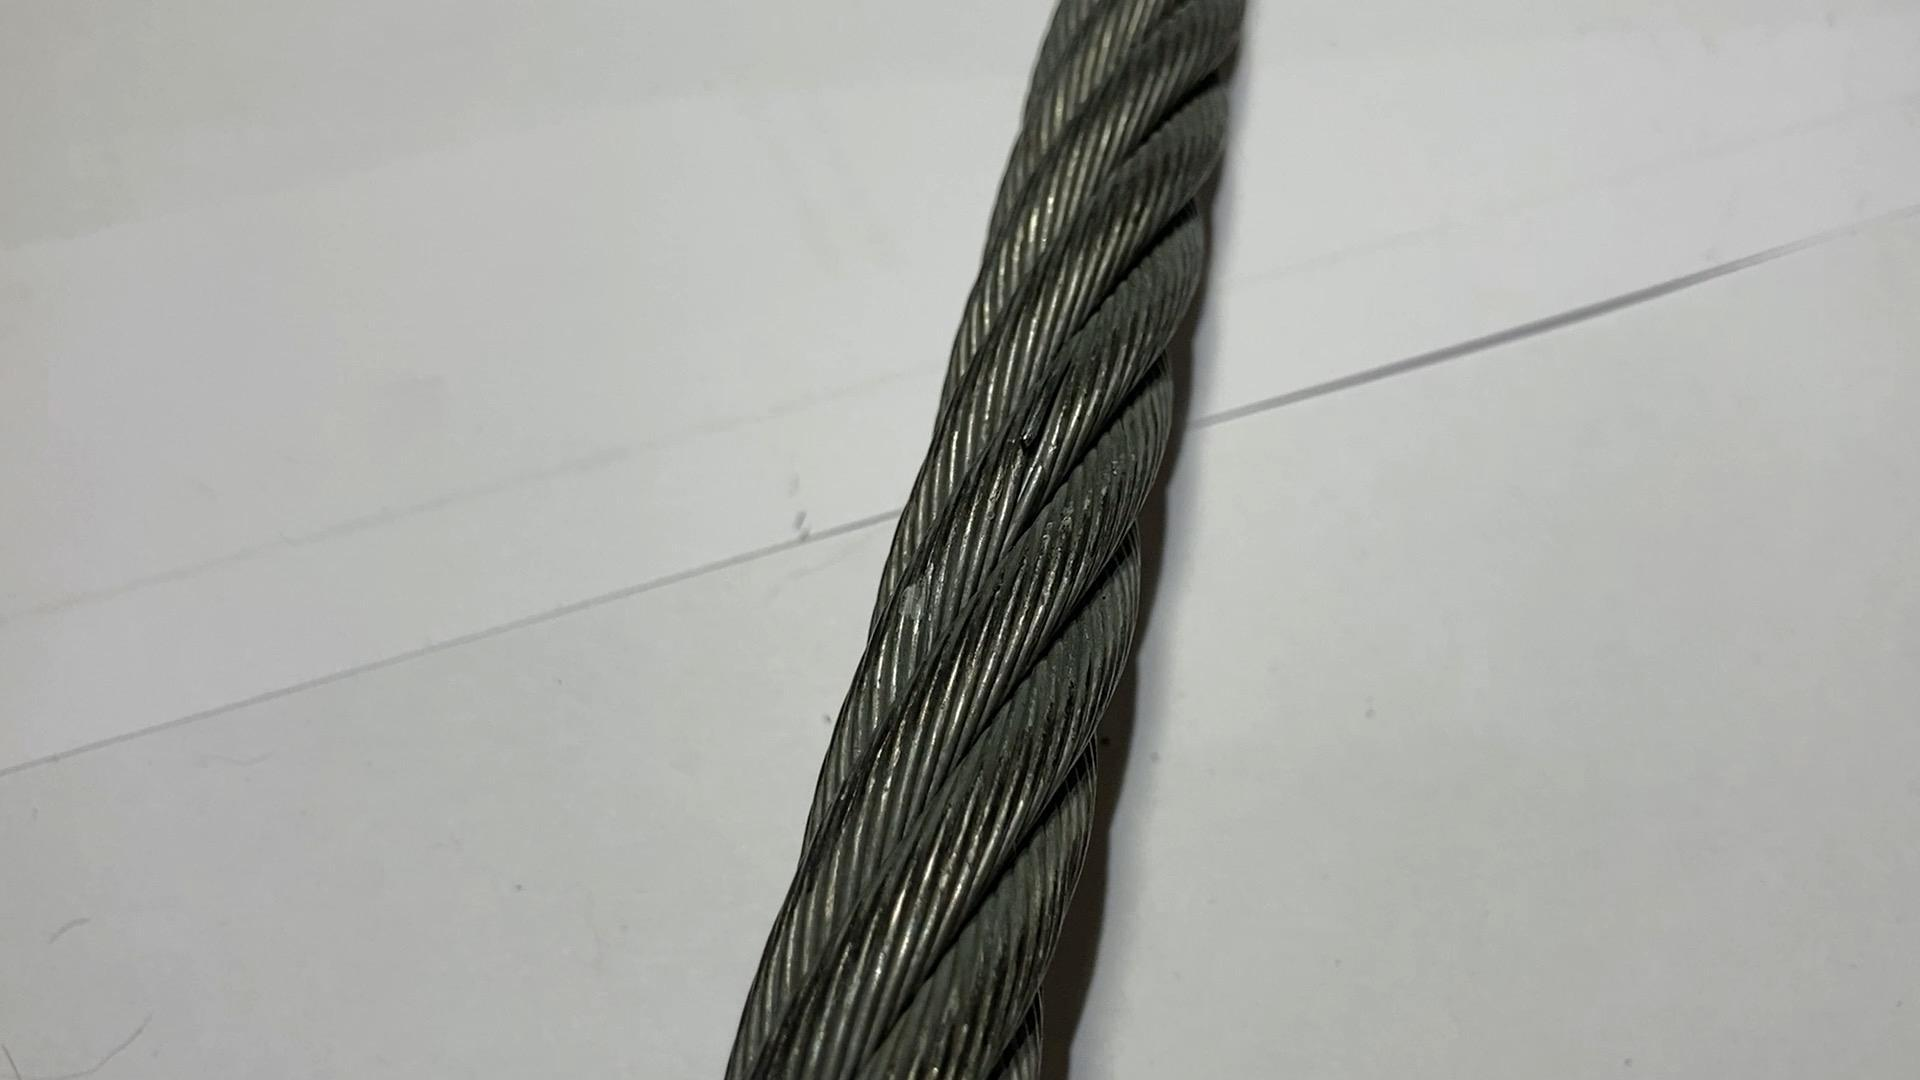break: (1001, 371, 1067, 469)
